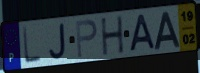A: (153, 10, 182, 51), (128, 13, 157, 53)
H: (99, 15, 126, 58)
J: (48, 22, 68, 61)
L: (21, 26, 43, 65)
P: (74, 19, 99, 60)
